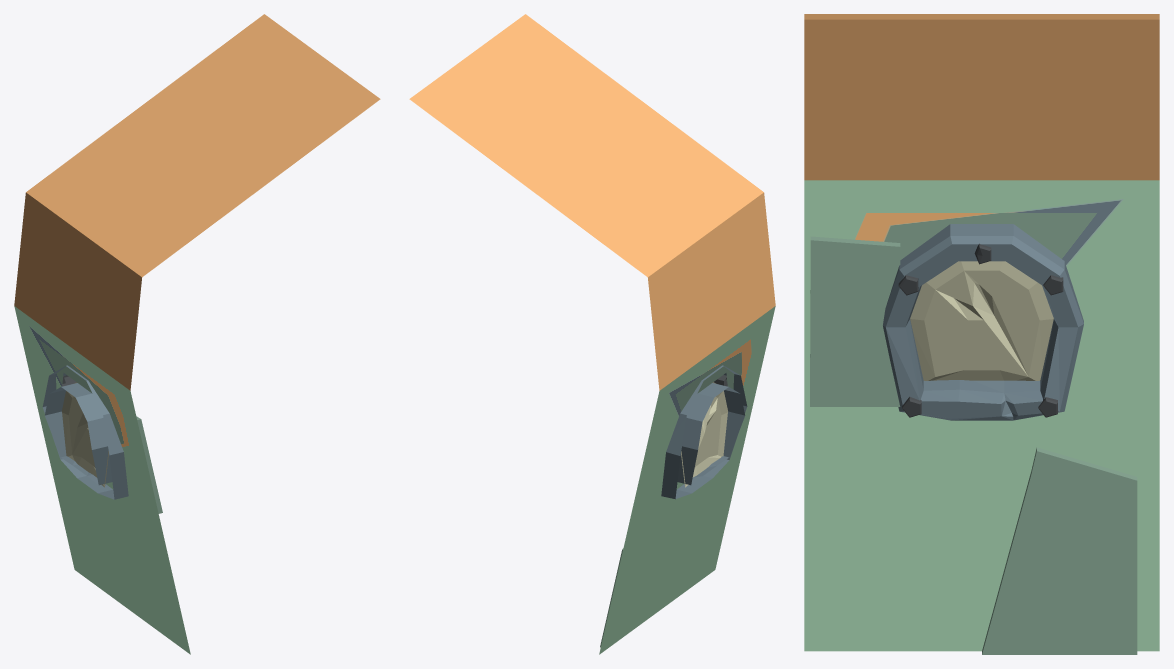
The model's file is Lateral4.FBX.
The picture shows the model from 3 angles, left to right: view 1: azimuth 30°, elevation 25°; view 2: azimuth 150°, elevation 25°; view 3: azimuth 270°, elevation 25°; orthographic projection. The views are drawn at different scales.
Parts seen in each view (by area): view 1: Laterales03; view 2: Laterales03; view 3: Laterales03.
Part boxes in pixels (bbox=[...]): Laterales03: bbox=[14, 14, 380, 654]; Laterales03: bbox=[409, 14, 775, 654]; Laterales03: bbox=[804, 14, 1159, 654].
Bounding box in the file's own units: 379 × 300 × 725.
Materials: 1 (1 with a texture image).
